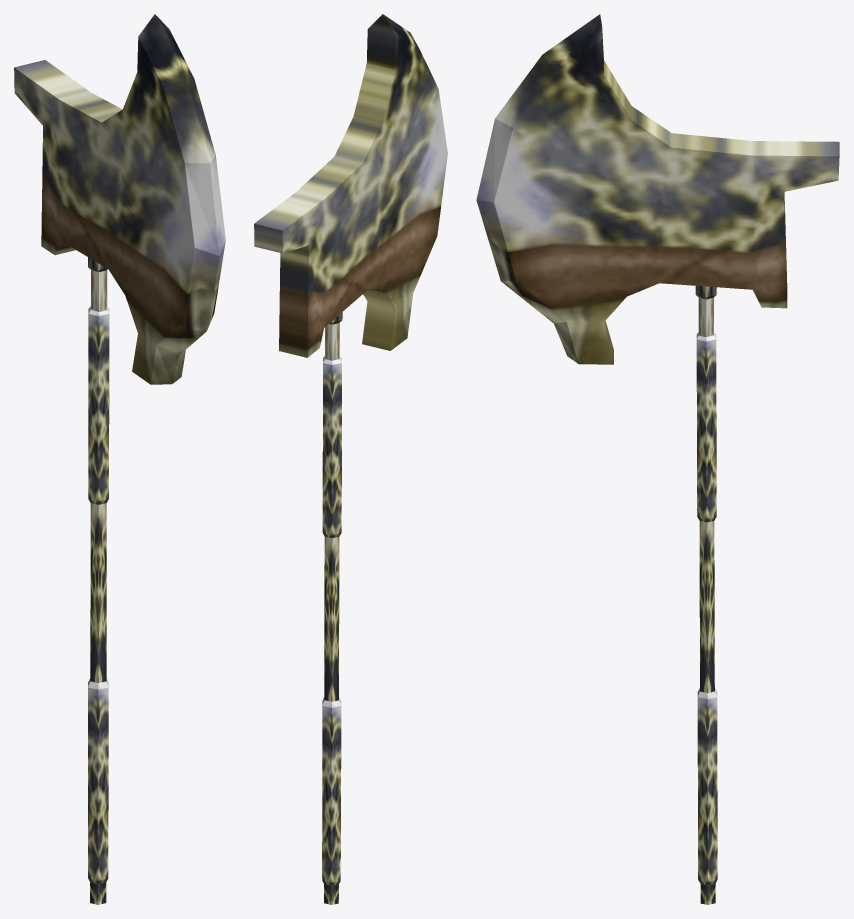
Rendered from heavyaxeman00_5.obj.
3 renders of one model, left to right at view 1: azimuth 30°, elevation 25°; view 2: azimuth 150°, elevation 25°; view 3: azimuth 270°, elevation 25°, orthographic. The views are drawn at different scales.
Visible parts, largest first — view 1: heavyaxeman00_5; view 2: heavyaxeman00_5; view 3: heavyaxeman00_5.
Boxes of the visible parts, x1,y1,x2,y2 form: heavyaxeman00_5: (14, 14, 225, 904); heavyaxeman00_5: (254, 14, 447, 904); heavyaxeman00_5: (476, 14, 839, 904).
Size of the model in its own units: 0.09 by 2.56 by 0.95.
